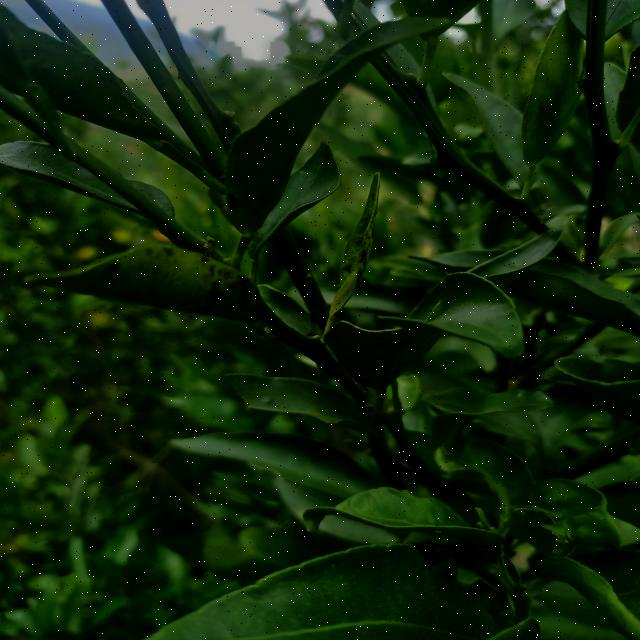melanose: (37, 224, 272, 334), (318, 178, 414, 318)
